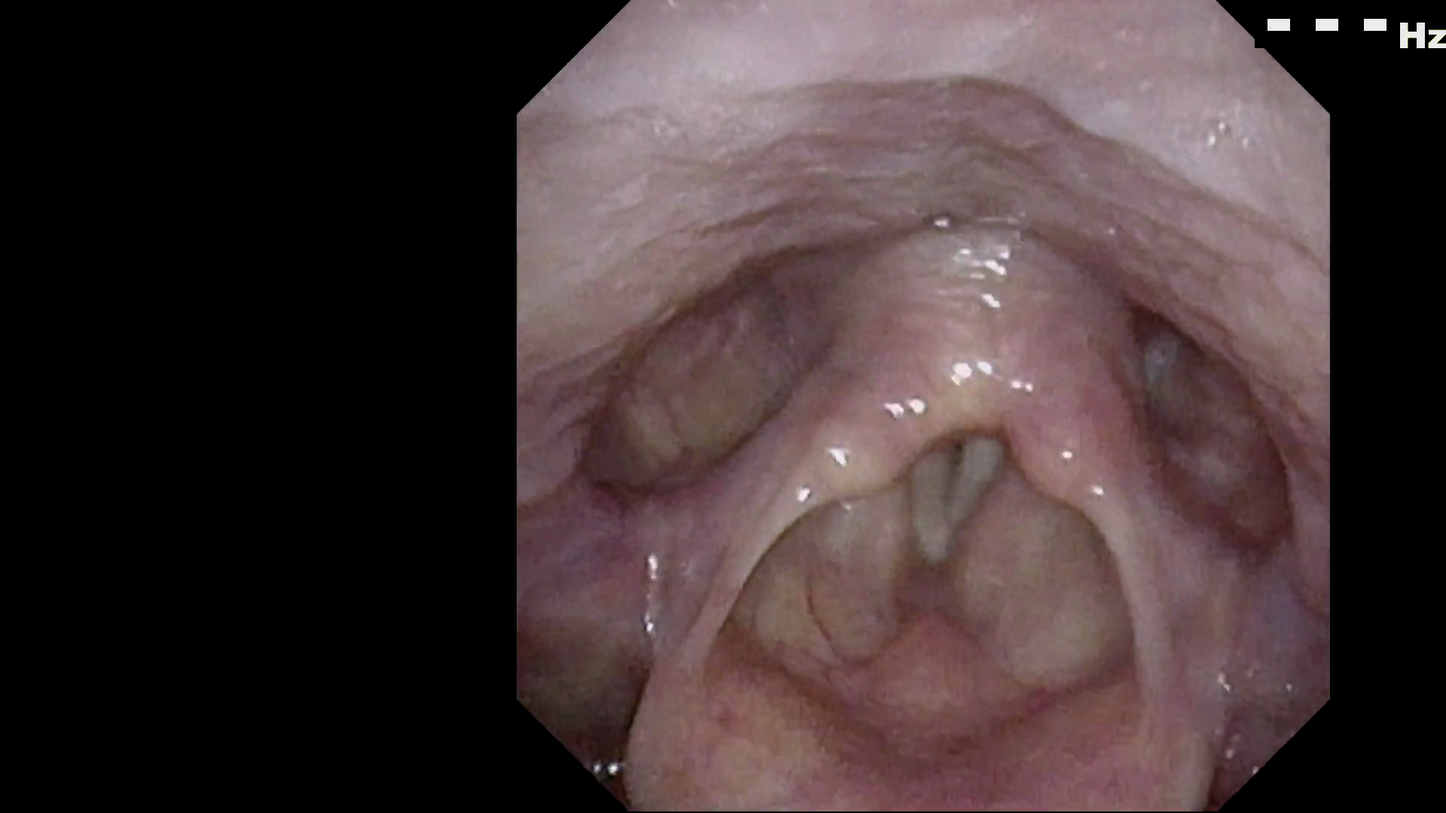epiglottis: (628, 588, 1257, 757)
trachea: (879, 400, 1045, 572)
